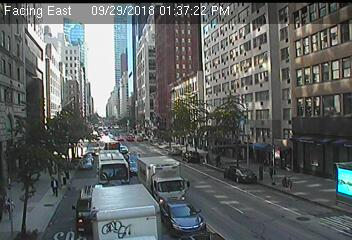car: (89, 185, 160, 240), (137, 158, 189, 207), (73, 186, 113, 238), (160, 200, 207, 236), (97, 150, 128, 194), (225, 166, 256, 186), (104, 139, 120, 160), (127, 160, 141, 175), (182, 151, 198, 162), (79, 158, 91, 170), (81, 154, 93, 164), (166, 148, 181, 156)
